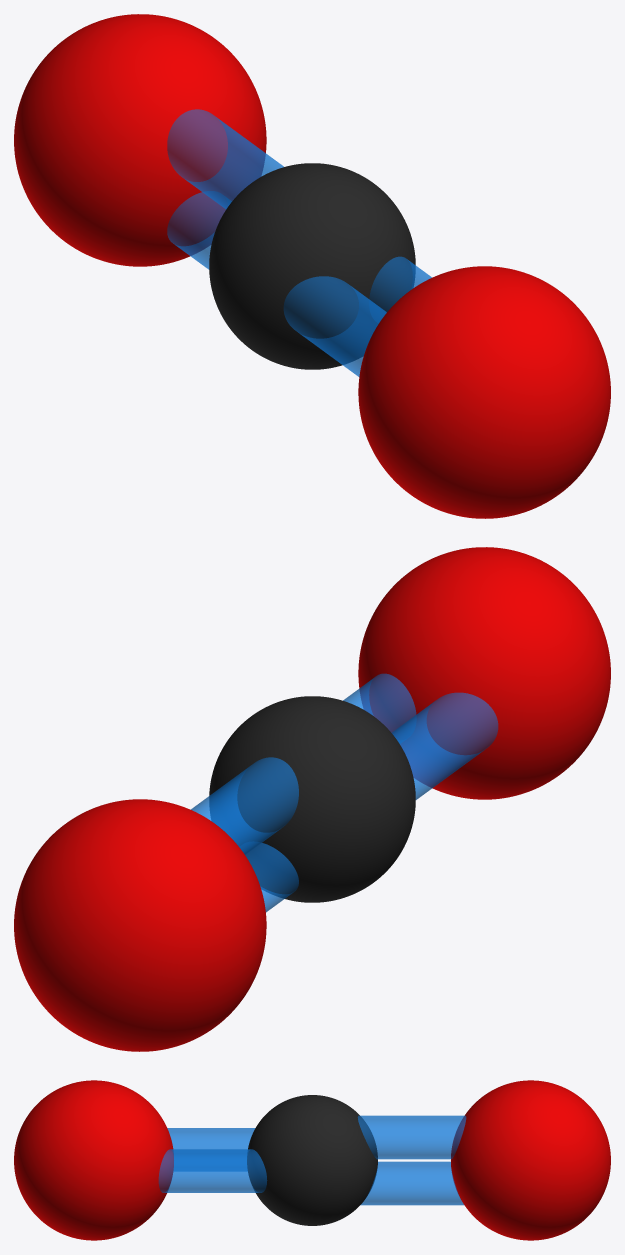
File: dioxyde_de_carbone_d.glb
3 views of the same model, one above another, from view 1: azimuth 30°, elevation 25°; view 2: azimuth 150°, elevation 25°; view 3: azimuth 270°, elevation 25° (orthographic). The views are drawn at different scales.
Parts seen in each view (by area): view 1: Object_3, Object_4, Object_5, Object_2; view 2: Object_4, Object_3, Object_5, Object_2; view 3: Object_4, Object_3, Object_2, Object_5.
Part boxes in pixels (bbox=[...]): Object_3: bbox=[358, 266, 610, 518]; Object_4: bbox=[14, 14, 266, 266]; Object_5: bbox=[209, 163, 415, 369]; Object_2: bbox=[167, 109, 431, 376]; Object_4: bbox=[14, 799, 266, 1051]; Object_3: bbox=[358, 547, 610, 799]; Object_5: bbox=[209, 696, 415, 902]; Object_2: bbox=[190, 673, 498, 912]; Object_4: bbox=[451, 1080, 610, 1240]; Object_3: bbox=[14, 1080, 173, 1240]; Object_2: bbox=[158, 1115, 466, 1205]; Object_5: bbox=[247, 1095, 377, 1225].
Size of the model in its own units: 22 by 22 by 82.
